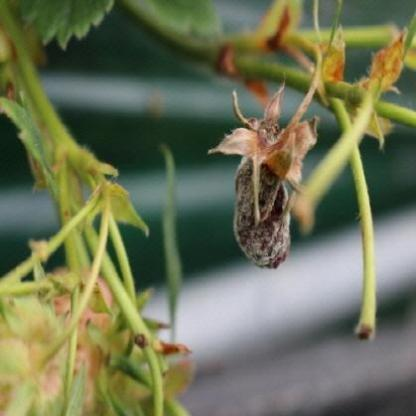Strawberry_Gray_Mold: (208, 81, 319, 271)
